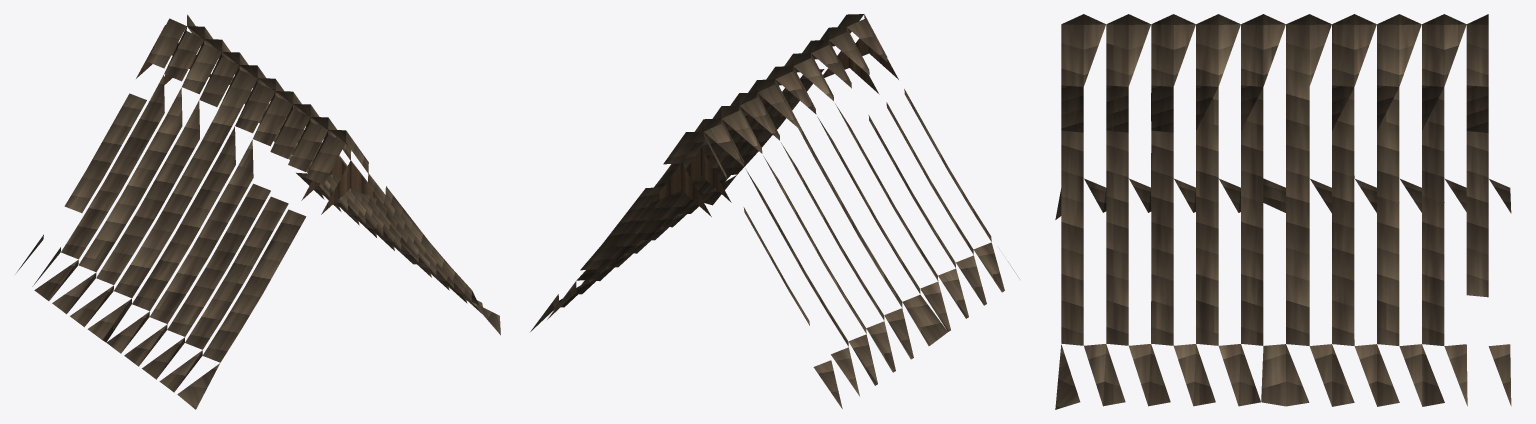
File: Roof_Shingle_4x4_LOD2.gltf
The picture shows the model from 3 angles, left to right: view 1: azimuth 30°, elevation 25°; view 2: azimuth 150°, elevation 25°; view 3: azimuth 270°, elevation 25°; orthographic projection. The views are drawn at different scales.
Parts seen in each view (by area): view 1: Roof_Shingle_4x4_LOD2; view 2: Roof_Shingle_4x4_LOD2; view 3: Roof_Shingle_4x4_LOD2.
Boxes of the visible parts, bbox=[...] form: Roof_Shingle_4x4_LOD2: bbox=[16, 14, 500, 409]; Roof_Shingle_4x4_LOD2: bbox=[530, 14, 1019, 408]; Roof_Shingle_4x4_LOD2: bbox=[1055, 14, 1511, 409].
Bounding box in the file's own units: 5.51 × 3.79 × 5.49.
Materials: 2 (2 with a texture image).
